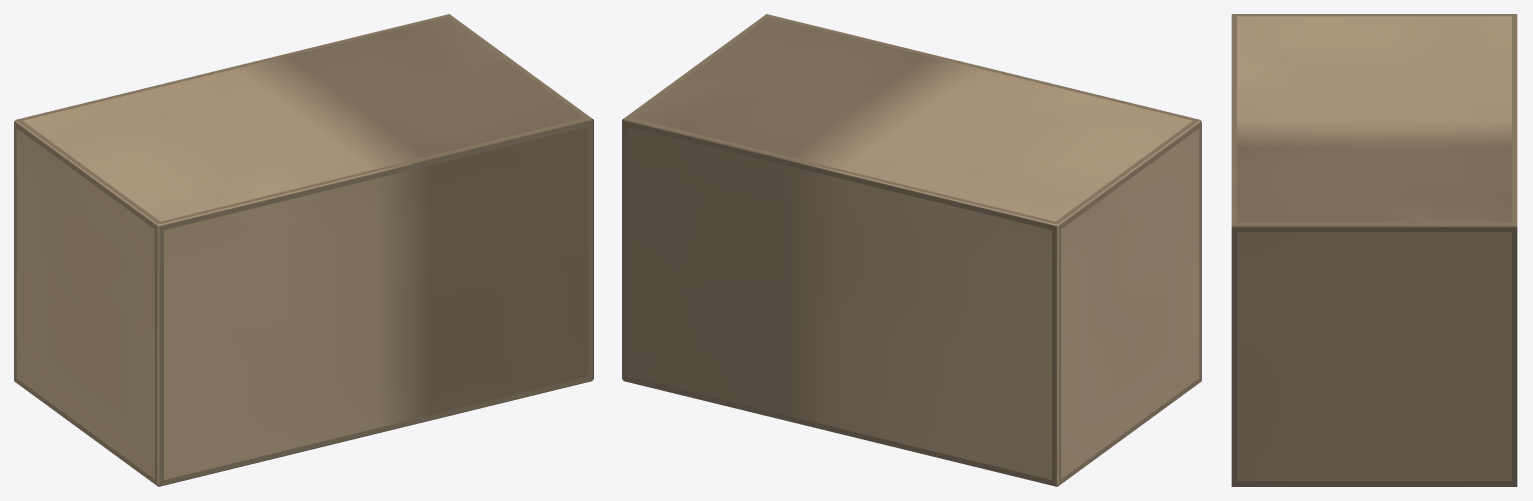
File: key.glb
3 views of the same model, side by side, from view 1: azimuth 30°, elevation 25°; view 2: azimuth 150°, elevation 25°; view 3: azimuth 270°, elevation 25° (orthographic).
Parts seen in each view (by area): view 1: key; view 2: key; view 3: key.
Part boxes in pixels (x1,y1,x2,y2): key: (14, 14, 593, 486); key: (622, 14, 1201, 486); key: (1231, 14, 1517, 486).
Size of the model in its own units: 0.1408 by 0.0808 by 0.0808.
